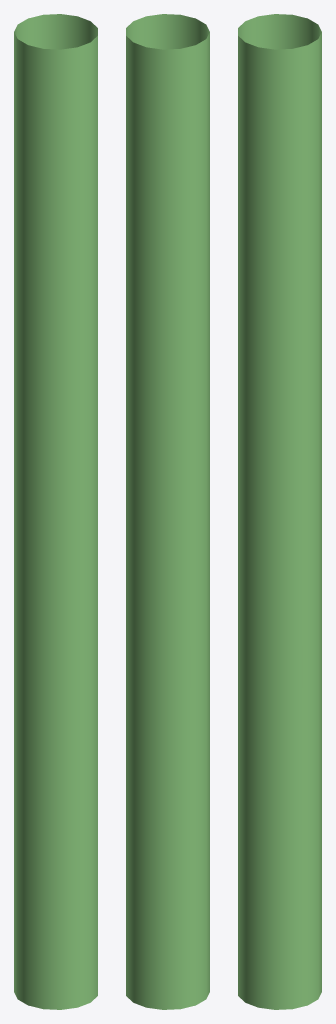
File: Columna.fbx
3 views of the same model, side by side, from view 1: azimuth 90°, elevation 25°; view 2: azimuth 150°, elevation 25°; view 3: azimuth 270°, elevation 25° (orthographic).
Parts seen in each view (by area): view 1: Columna; view 2: Columna; view 3: Columna.
Boxes of the visible parts, x1,y1,x2,y2 form: Columna: (14,14,97,1009); Columna: (126,14,209,1009); Columna: (238,14,321,1009).
Bounding box in the file's own units: 39.78 × 500 × 39.56.
